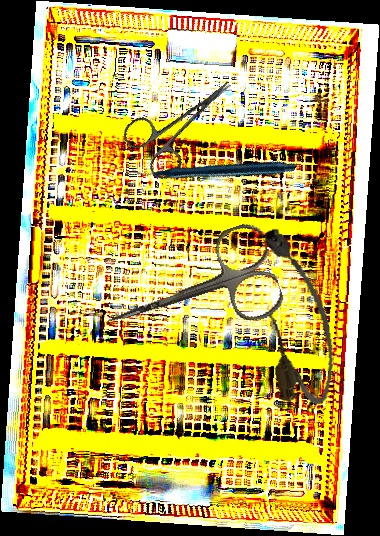Cannula: (252, 221, 343, 411)
Handpiece: (130, 88, 299, 247)
Iris Scissors: (92, 219, 288, 365), (118, 58, 253, 186)
